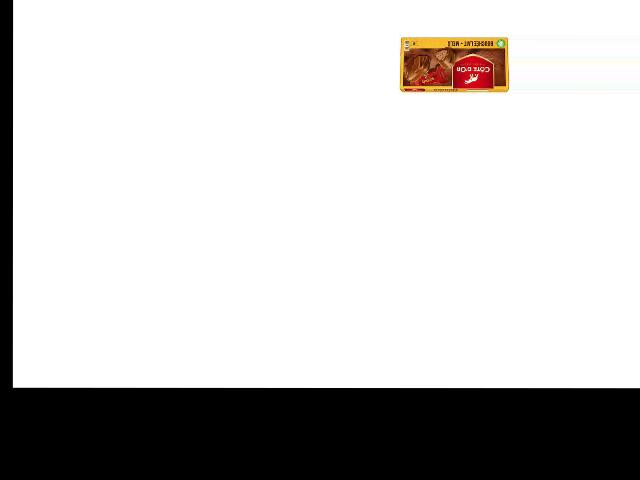chocolate: (397, 27, 509, 94)
